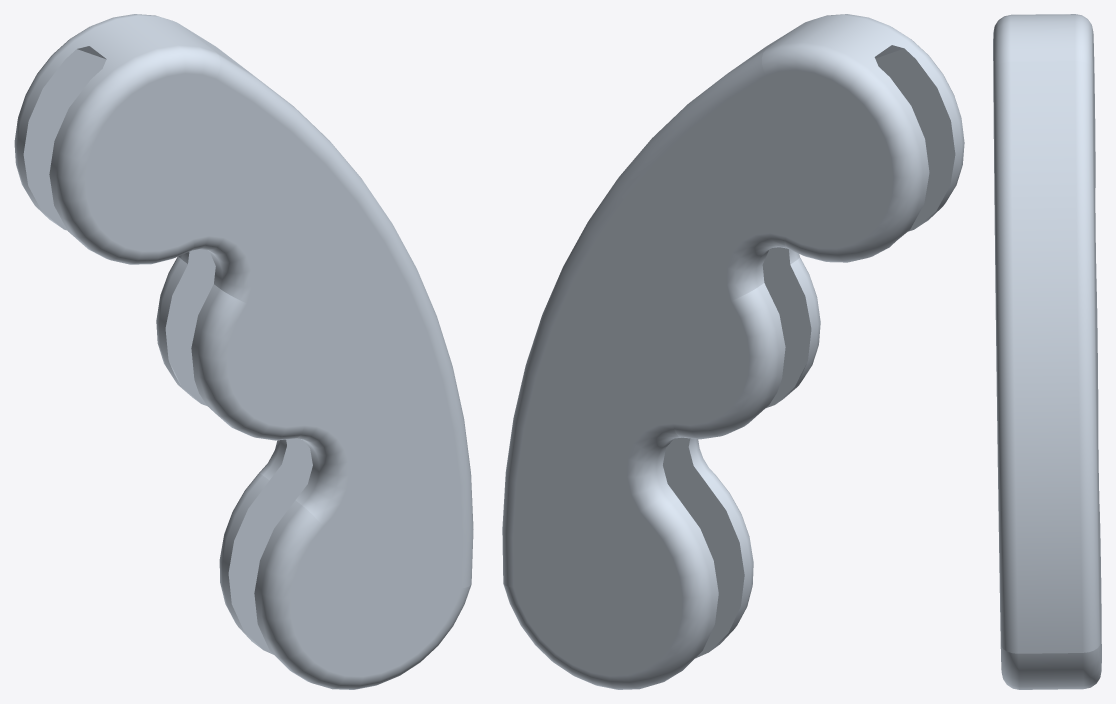
File: RB-001_viewer.glb
The picture shows the model from 3 angles, left to right: view 1: azimuth 30°, elevation 25°; view 2: azimuth 150°, elevation 25°; view 3: azimuth 270°, elevation 25°; orthographic projection. The views are drawn at different scales.
Parts seen in each view (by area): view 1: basebody_imported1; view 2: basebody_imported1; view 3: basebody_imported1.
Part boxes in pixels (<box>): basebody_imported1: <box>14,14,473,689</box>; basebody_imported1: <box>502,14,964,689</box>; basebody_imported1: <box>993,14,1101,689</box>.
Bounding box in the file's own units: 0.00762 × 0.0121 × 0.00208.
